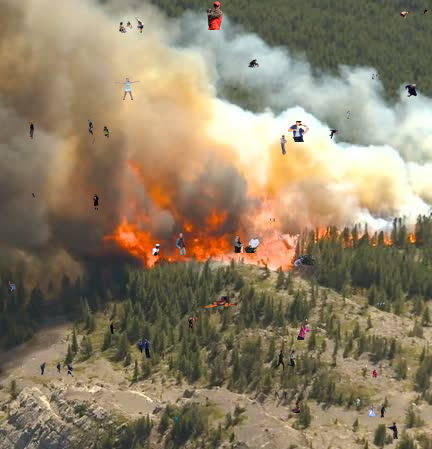Human: (115, 78, 140, 100), (232, 234, 260, 253), (40, 362, 74, 377), (273, 350, 296, 372), (297, 319, 321, 340), (132, 338, 156, 359), (293, 255, 322, 272), (206, 1, 223, 30), (288, 121, 309, 142), (202, 296, 237, 308), (119, 17, 144, 33), (400, 8, 428, 19), (367, 404, 386, 418), (175, 233, 186, 255), (386, 422, 398, 439), (291, 399, 305, 413), (88, 119, 95, 144), (246, 58, 262, 68), (405, 84, 417, 97), (275, 387, 287, 400), (280, 135, 287, 155), (110, 322, 121, 334), (188, 317, 199, 329), (152, 244, 162, 256), (329, 126, 338, 139), (102, 126, 110, 140), (93, 194, 99, 210), (29, 121, 34, 139), (9, 281, 16, 291), (356, 397, 361, 409), (372, 74, 380, 81), (372, 369, 378, 378), (30, 438, 38, 444), (377, 302, 385, 307), (32, 192, 35, 201), (175, 416, 178, 424), (347, 111, 350, 119), (221, 283, 226, 287), (270, 218, 275, 222), (72, 400, 75, 406), (284, 373, 293, 375)
